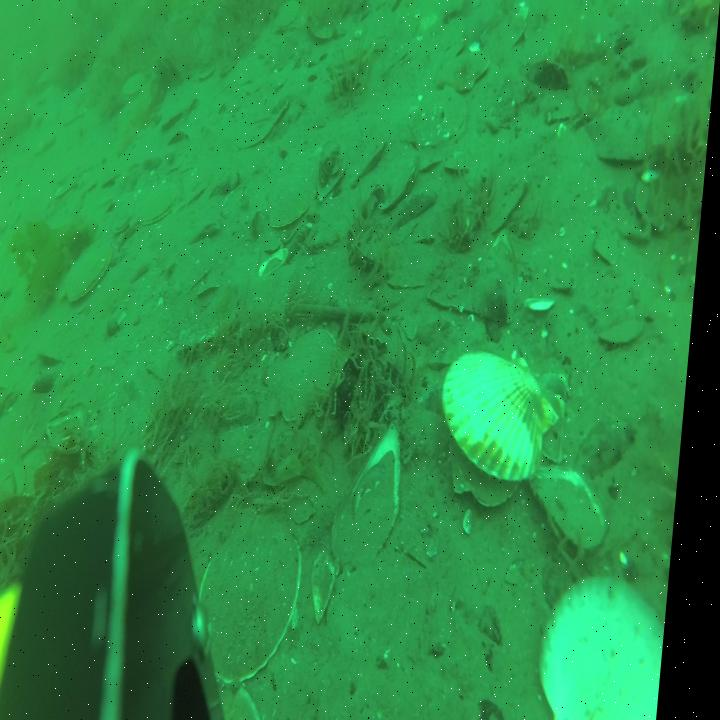scallop: (446, 347, 575, 501), (270, 330, 347, 431), (412, 92, 471, 156), (270, 166, 322, 232), (439, 46, 493, 100), (71, 245, 118, 305), (373, 159, 422, 216), (140, 177, 186, 231), (604, 307, 652, 358), (352, 138, 393, 187), (161, 93, 201, 134), (413, 144, 441, 174), (116, 207, 139, 240), (446, 154, 475, 180)
